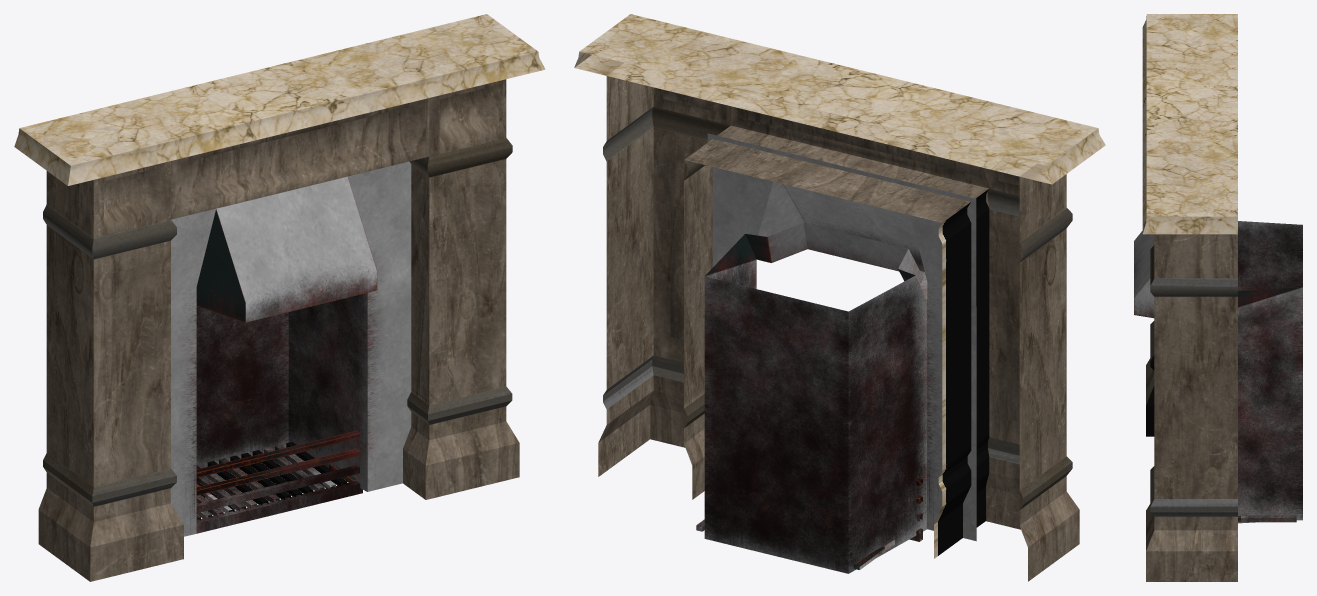
The model's file is fireplace_lopoly.obj.
3 views of the same model, side by side, from view 1: azimuth 30°, elevation 25°; view 2: azimuth 150°, elevation 25°; view 3: azimuth 270°, elevation 25° (orthographic). The views are drawn at different scales.
Visible parts, largest first — view 1: pPlane1, pCube2 polySurface1, polySurface3 pCube2, pCube3, pCube2 polySurface2, pCube24, pCube23, pCube5, pCube4; view 2: pPlane1, pCube2 polySurface1, polySurface3 pCube2, pCube3, pCube2 polySurface2; view 3: polySurface3 pCube2, pCube3, pPlane1, pCube2 polySurface1, pCube8.
Part boxes in pixels (box(x1,y1,x2,y2)): pPlane1: box(171, 161, 411, 536); pCube2 polySurface1: box(38, 161, 183, 581); polySurface3 pCube2: box(403, 79, 519, 499); pCube3: box(14, 14, 545, 185); pCube2 polySurface2: box(171, 98, 429, 219); pCube24: box(196, 481, 362, 533); pCube23: box(196, 465, 359, 512); pCube5: box(196, 448, 360, 495); pCube4: box(196, 430, 360, 477); pPlane1: box(704, 133, 976, 573); pCube2 polySurface1: box(934, 169, 1079, 581); polySurface3 pCube2: box(598, 76, 730, 499); pCube3: box(574, 14, 1105, 184); pCube2 polySurface2: box(684, 106, 989, 222); polySurface3 pCube2: box(1146, 234, 1237, 581); pCube3: box(1142, 14, 1237, 234); pPlane1: box(1134, 221, 1302, 523); pCube2 polySurface1: box(1146, 321, 1154, 436); pCube8: box(1238, 515, 1296, 522).
Size of the model in its own units: 173 by 147 by 59.42.
2 materials, 2 textured.
